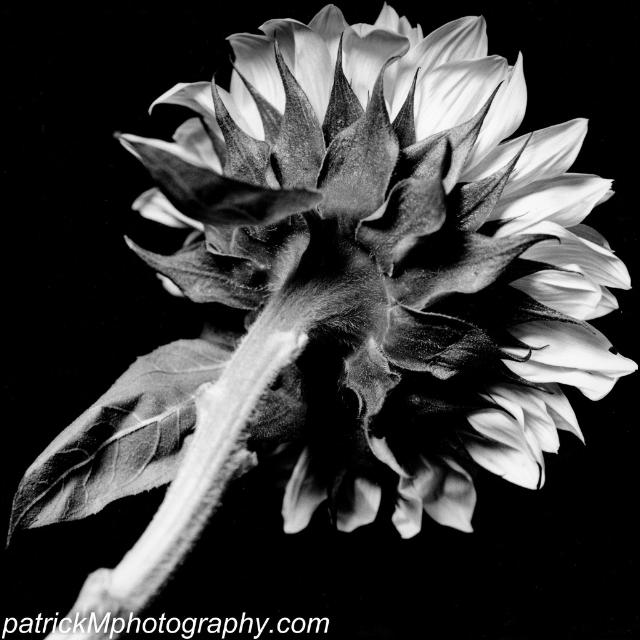Flower: (71, 4, 634, 534)
